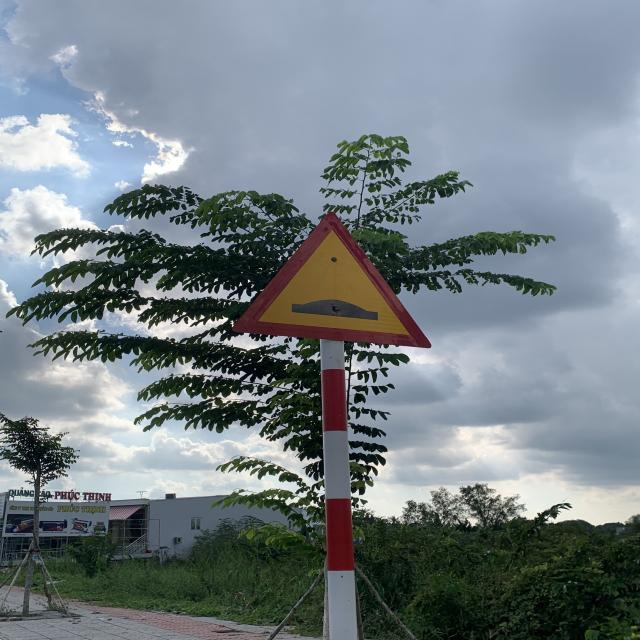Duong_Cong_Ben_Phai: (232, 212, 434, 348)
